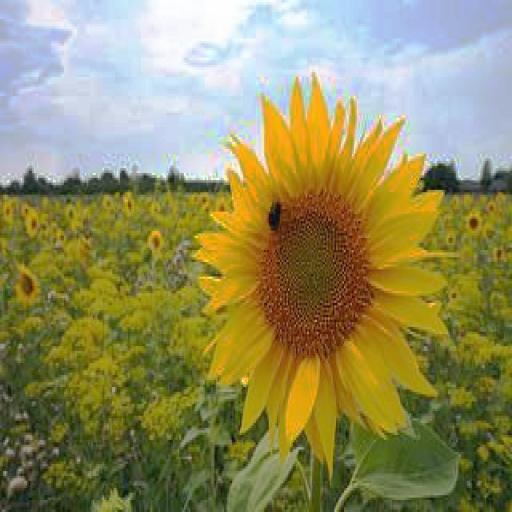sunflower: (197, 74, 453, 468), (187, 79, 189, 82)
